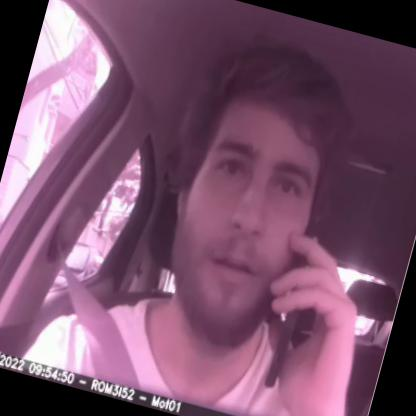phone: (245, 204, 339, 401)
